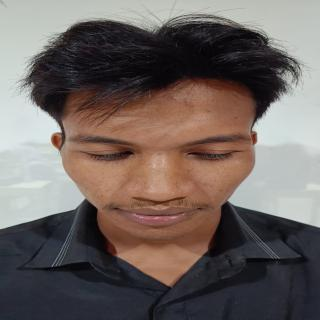Sedih: (58, 71, 265, 250)
